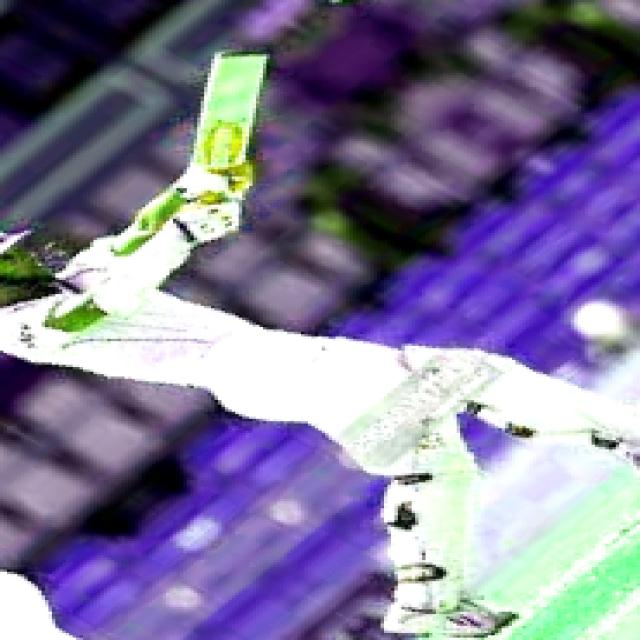toe: (210, 41, 278, 64)
